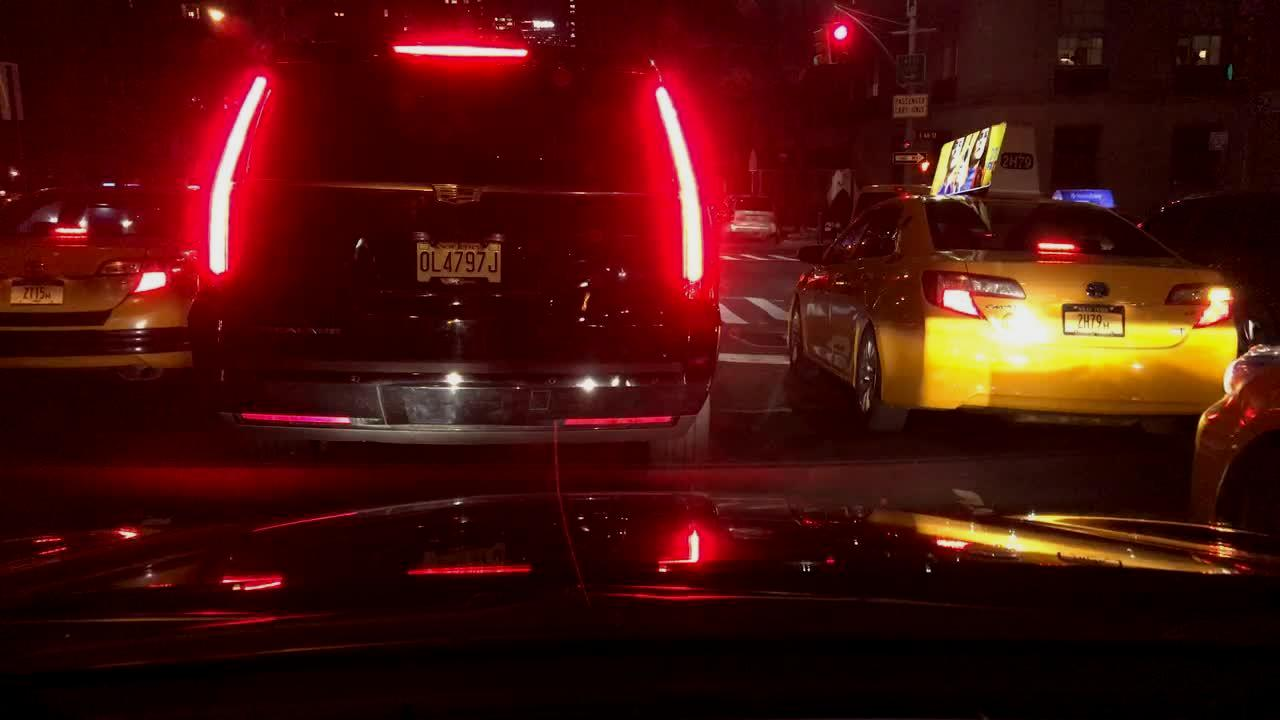Toyota: (1081, 278, 1114, 302)
cadillac: (430, 174, 493, 213)
